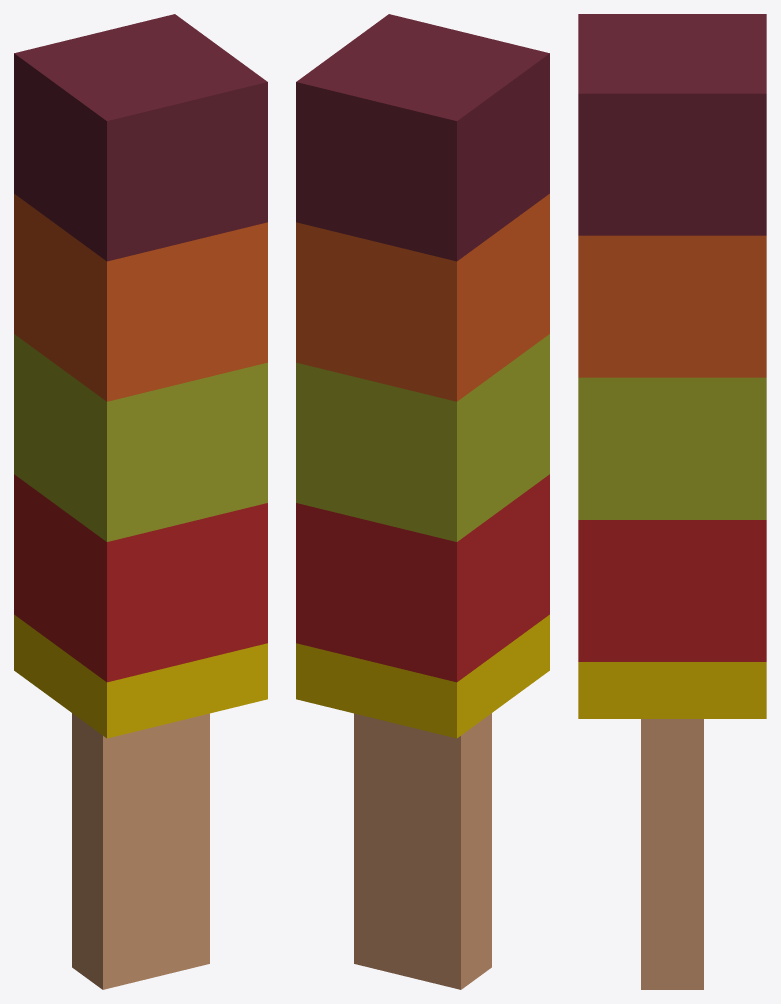
The model's file is Eruption-8.obj.
3 renders of one model, left to right at view 1: azimuth 30°, elevation 25°; view 2: azimuth 150°, elevation 25°; view 3: azimuth 270°, elevation 25°, orthographic.
Bounding box in the file's own units: 0.6 × 3.2 × 0.6.
Materials: 1 (1 with a texture image).
